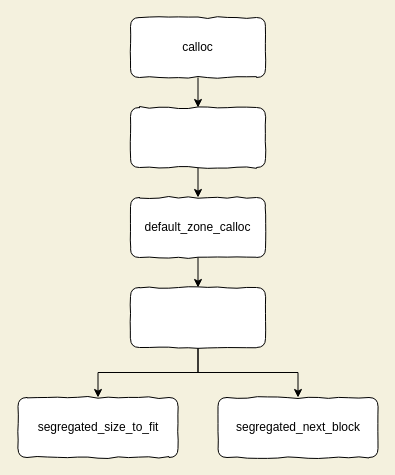
Image size: 395x475. Some labels were removed from this diagram. The box of each missing label's shape, as (x1, y1, x2, y2) in pixels:
_malloc_zone_calloc: (130, 106, 266, 168)
nano_calloc: (130, 286, 266, 348)
